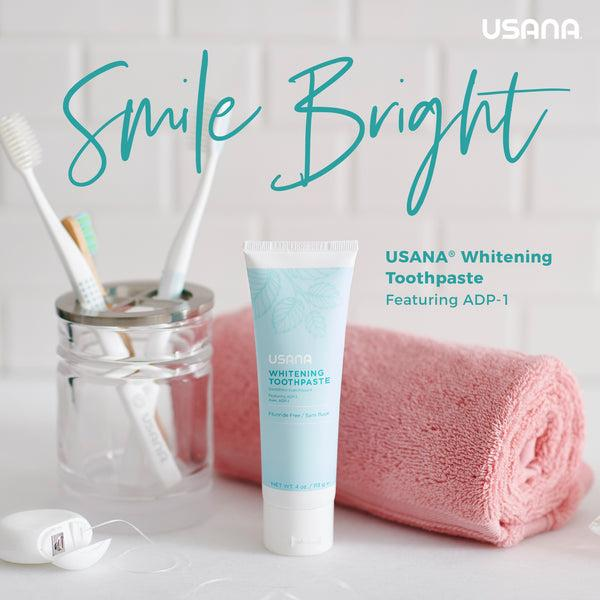toothpaste: (231, 226, 360, 566)
